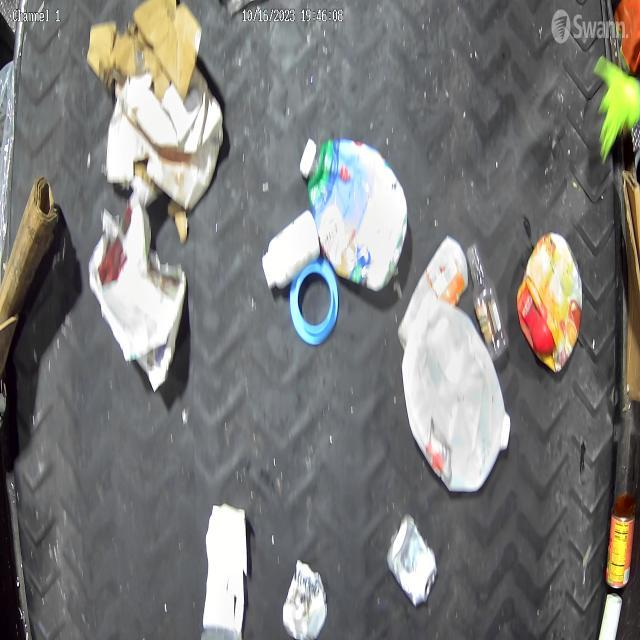can: (386, 511, 438, 608)
milk_jug: (401, 300, 512, 493)
non_white_jug: (300, 137, 408, 290)
